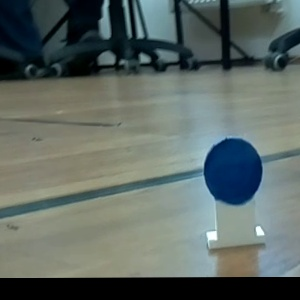circle: (188, 134, 275, 252)
